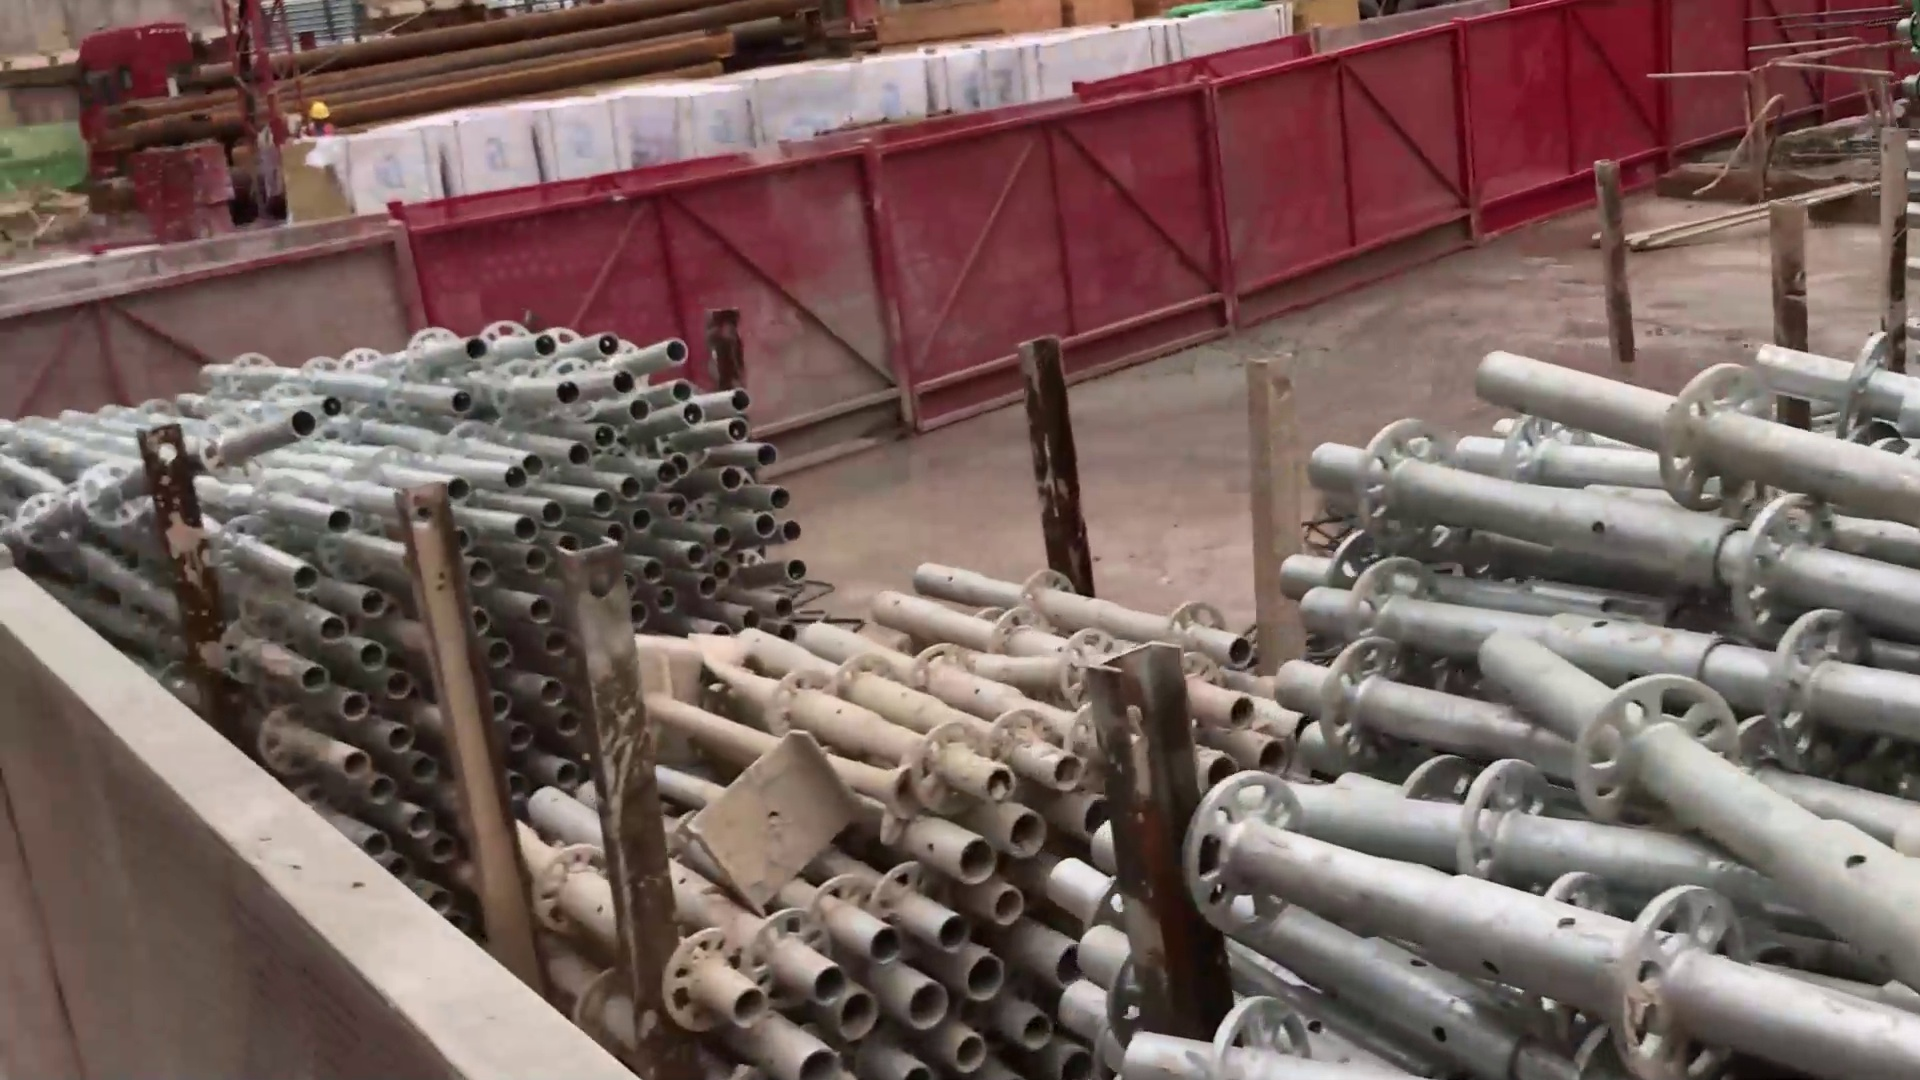fence: (851, 16, 1455, 465)
scaffold: (1240, 324, 1920, 1073), (125, 316, 841, 831), (645, 568, 1217, 1069)
